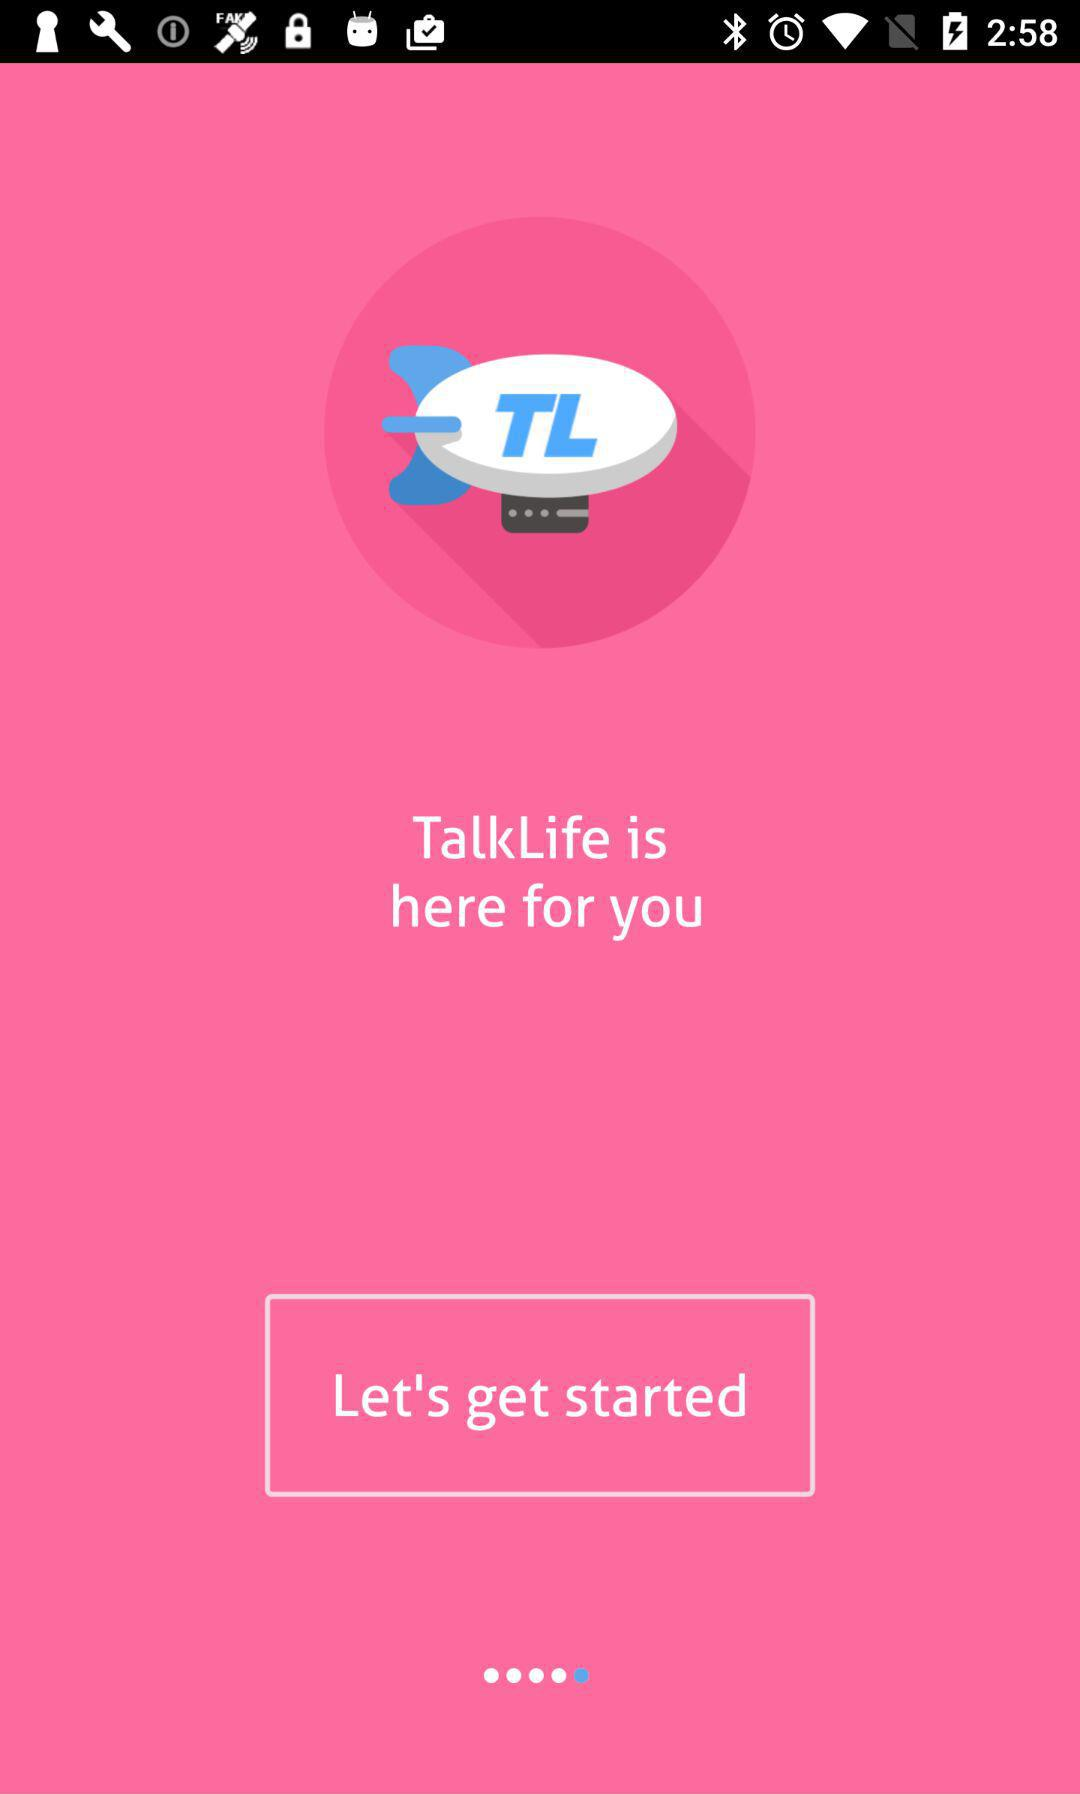Image: (323, 215, 757, 650)
PageIndicator: (483, 1666, 591, 1685)
Text: (392, 814, 703, 943)
TextButton: (265, 1293, 816, 1498)
UpperTaskBar: (1, 1, 1080, 64)
